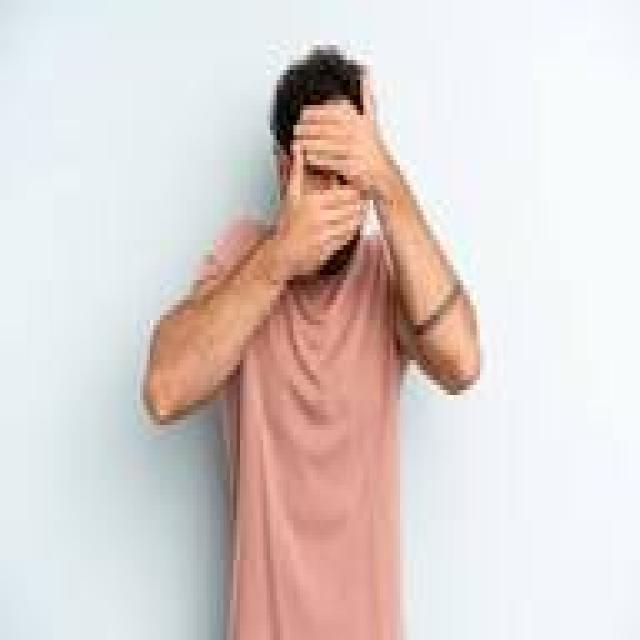7_mano_rostro: (275, 80, 370, 288)
